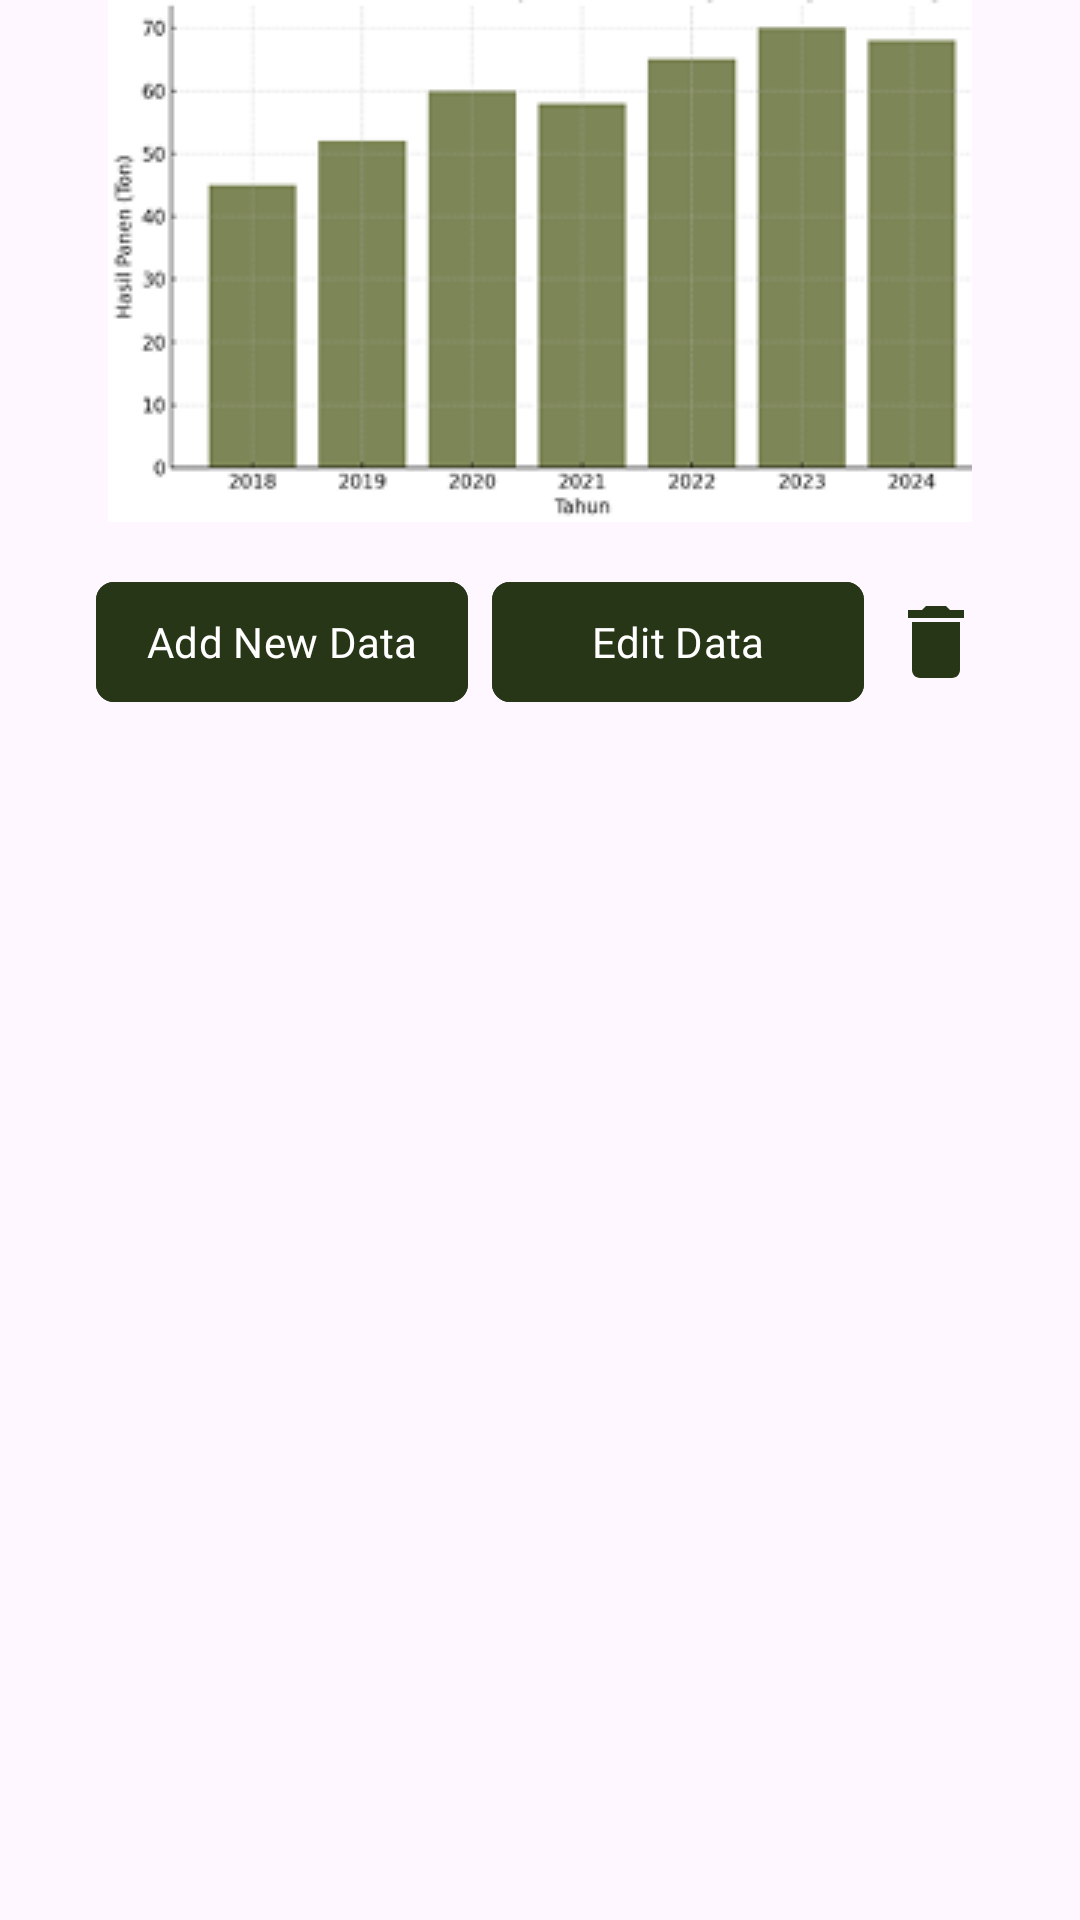

Icons on this 1080px x 1920px Android screen, each with its box as (x1, y1, x2, y2):
delete text: (908, 606, 964, 678)
